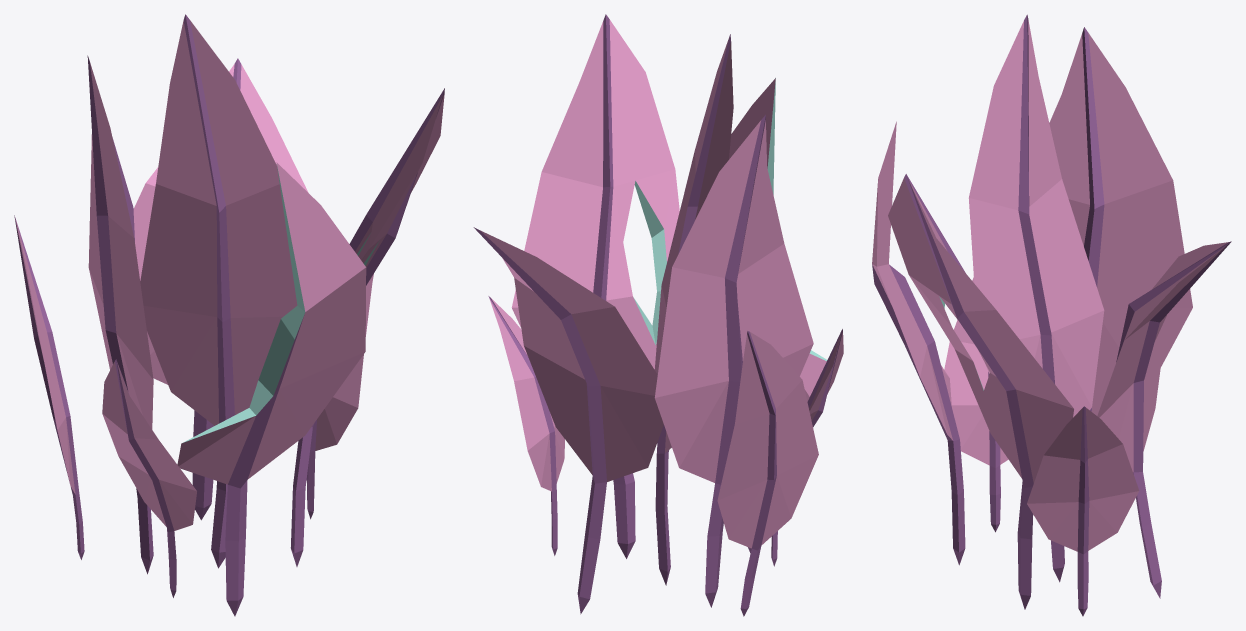
File: Gras_03_Var_08.fbx
The picture shows the model from 3 angles, left to right: view 1: azimuth 30°, elevation 25°; view 2: azimuth 150°, elevation 25°; view 3: azimuth 270°, elevation 25°; orthographic projection. The views are drawn at different scales.
Visible parts, largest first — view 1: Gras_03_Var_08; view 2: Gras_03_Var_08; view 3: Gras_03_Var_08.
Part boxes in pixels (x1=…): Gras_03_Var_08: x1=14, y1=14, x2=444, y2=616; Gras_03_Var_08: x1=473, y1=14, x2=843, y2=616; Gras_03_Var_08: x1=872, y1=14, x2=1231, y2=616.
Bounding box in the file's own units: 0.1432 × 0.2396 × 0.1453.
